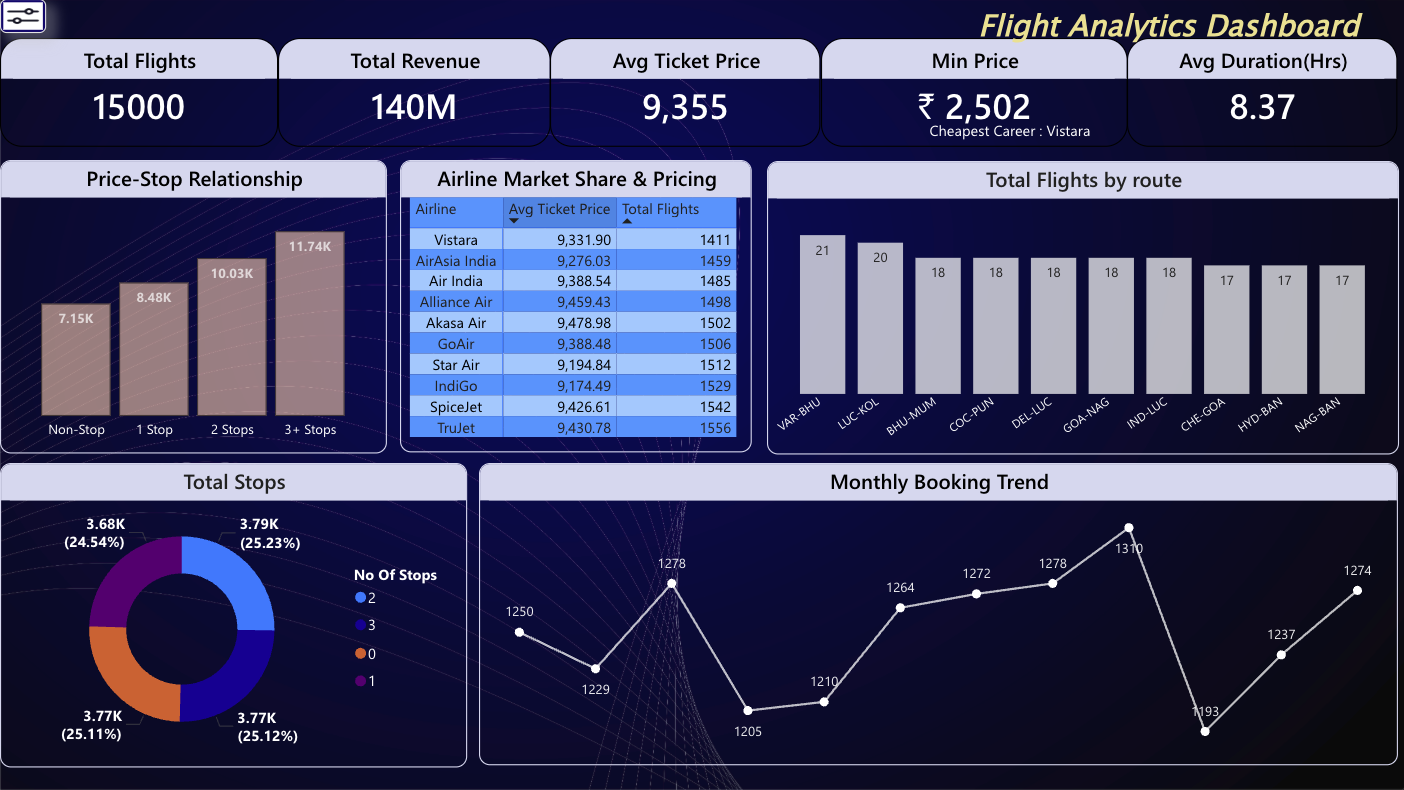

Layout of this report page (visuals, bound fields, positions):
{"tool":"powerbi","page":{"name":"Page 1","canvas":[1280,720],"ordinal":0},"visuals":[{"type":"card","title":"Total Flights","fields":{"Values":["powerbi_flights_ready.Total Flights"]},"box":[0,35.4,252.6,98.6],"z":0},{"type":"card","title":"Total Revenue","fields":{"Values":["powerbi_flights_ready.Total Revenue"]},"box":[252.6,35.4,248,98.6],"z":1000},{"type":"card","title":"Avg Ticket Price","fields":{"Values":["powerbi_flights_ready.Avg Ticket Price"]},"box":[500.6,35.4,246.5,98.6],"z":2000},{"type":"card","title":"Avg Duration(Hrs)","fields":{"Values":["powerbi_flights_ready.Avg Duration(Hrs)"]},"box":[1025.6,35.2,246.5,98.8],"z":3000},{"type":"card","title":"Min Price","fields":{"Values":["powerbi_flights_ready.Min Price"]},"box":[747.1,35.4,278.8,98.6],"z":4000},{"type":"clusteredColumnChart","title":"Price-Stop Relationship","fields":{"Y":["powerbi_flights_ready.Avg Ticket Price"],"Category":["powerbi_flights_ready.stop_cat"]},"box":[0,146.5,352.1,266.9],"z":5000},{"type":"lineChart","title":"Monthly Booking Trend","fields":{"Y":["powerbi_flights_ready.Total Flights"],"Category":["Calendar.Date.Variation.Date Hierarchy.Month"]},"box":[436.1,422.5,835.9,274.9],"z":6000},{"type":"donutChart","title":"Total Stops","fields":{"Category":["powerbi_flights_ready.total_stops"],"Y":["CountNonNull(powerbi_flights_ready.Airline)"]},"box":[0,422.5,424.8,277.1],"z":6500},{"type":"pivotTable","title":"Airline Market Share & Pricing","fields":{"Rows":["powerbi_flights_ready.airline"],"Values":["powerbi_flights_ready.Avg Ticket Price","powerbi_flights_ready.Total Flights"]},"box":[363.4,146.5,320.3,265.8],"z":7000},{"type":"clusteredColumnChart","fields":{"Category":["powerbi_flights_ready.route"],"Y":["powerbi_flights_ready.Total Flights"]},"box":[697.4,147.6,574.7,266.9],"z":8000},{"type":"textbox","box":[840.7,105.9,171.3,28.8],"z":9000},{"type":"textbox","box":[885.2,0,386.4,84.3],"z":10000},{"type":"actionButton","title":"  >","box":[0,0,42,31],"z":13500}]}

Visuals, with their boxes in screenshot pixels (x1, y1, x2, y2), scaled from the page's 1280x720 canvas onto the 1404x790 screenshot:
"Total Flights" card: l=0, t=39, r=277, b=147
"Total Revenue" card: l=277, t=39, r=549, b=147
"Avg Ticket Price" card: l=549, t=39, r=819, b=147
"Avg Duration(Hrs)" card: l=1125, t=39, r=1395, b=147
"Min Price" card: l=819, t=39, r=1125, b=147
"Price-Stop Relationship" clusteredColumnChart: l=0, t=161, r=386, b=454
"Monthly Booking Trend" lineChart: l=478, t=464, r=1395, b=765
"Total Stops" donutChart: l=0, t=464, r=466, b=768
"Airline Market Share & Pricing" pivotTable: l=399, t=161, r=750, b=452
clusteredColumnChart - powerbi_flights_ready.route x powerbi_flights_ready.Total Flights: l=765, t=162, r=1395, b=455
textbox: l=922, t=116, r=1110, b=148
textbox: l=971, t=0, r=1395, b=92
"  >" actionButton: l=0, t=0, r=46, b=34
